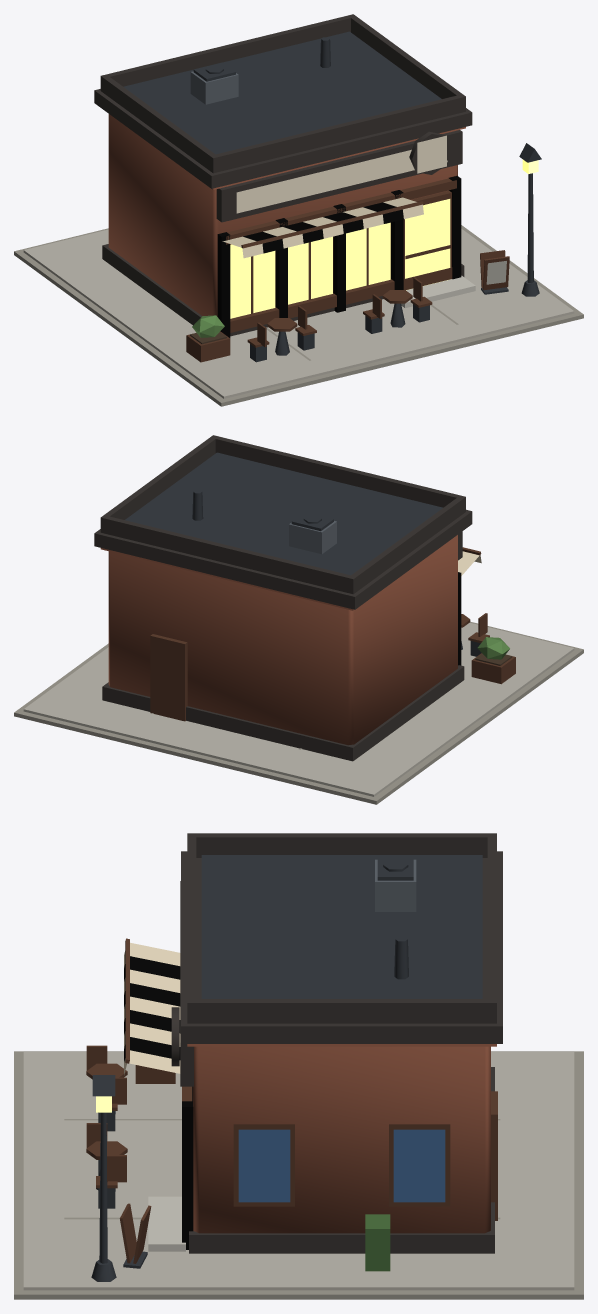
File: cornerleaf-cafe.glb
The picture shows the model from 3 angles, top to bottom: view 1: azimuth 30°, elevation 25°; view 2: azimuth 150°, elevation 25°; view 3: azimuth 270°, elevation 25°; orthographic projection. The views are drawn at different scales.
Parts seen in each view (by area): view 1: Merged_cafe-cornice, Merged_city-paving, Merged_city-metal-dark, Merged_cafe-brick, Merged_city-lit-glass-surface, Merged_cafe-timber, Merged_city-curb, Merged_cafe-brick-shade, Merged_cafe-sign-plate, Merged_cafe-canvas-light, Merged_cafe-canvas-dark, Merged_city-metal (+5 smaller); view 2: Merged_cafe-brick, Merged_cafe-cornice, Merged_city-paving, Merged_city-metal-dark, Merged_city-curb, Merged_cafe-timber, Merged_city-metal, Merged_cafe-brick-light, Merged_city-foliage; view 3: Merged_city-paving, Merged_cafe-brick, Merged_city-metal-dark, Merged_cafe-cornice, Merged_city-curb, Merged_cafe-timber, Merged_city-glass-surface, Merged_cafe-canvas-light, Merged_cafe-canvas-dark, Merged_city-paving-light, Merged_cafe-brick-shade, Merged_city-foliage-deep (+2 smaller).
Part boxes in pixels (x1,y1,x2,y2): Merged_cafe-cornice: (94, 14, 472, 336); Merged_city-paving: (23, 229, 574, 398); Merged_city-metal-dark: (123, 31, 541, 362); Merged_cafe-brick: (108, 114, 457, 316); Merged_city-lit-glass-surface: (230, 199, 450, 318); Merged_cafe-timber: (186, 178, 509, 362); Merged_city-curb: (14, 225, 583, 406); Merged_cafe-brick-shade: (217, 175, 461, 337); Merged_cafe-sign-plate: (236, 149, 447, 213); Merged_cafe-canvas-light: (222, 197, 423, 258); Merged_cafe-canvas-dark: (243, 202, 403, 253); Merged_city-metal: (190, 71, 238, 104); Merged_cafe-brick: (108, 535, 457, 745); Merged_cafe-cornice: (94, 435, 472, 761); Merged_city-paving: (23, 622, 574, 796); Merged_city-metal-dark: (125, 452, 481, 656); Merged_city-curb: (14, 621, 583, 804); Merged_cafe-timber: (150, 547, 515, 721); Merged_city-metal: (289, 521, 336, 554); Merged_cafe-brick-light: (100, 548, 354, 610); Merged_city-foliage: (477, 637, 509, 659); Merged_city-paving: (23, 1052, 574, 1290); Merged_cafe-brick: (193, 1046, 490, 1233); Merged_city-metal-dark: (91, 855, 482, 1281); Merged_cafe-cornice: (171, 833, 502, 1253); Merged_city-curb: (14, 1051, 583, 1299); Merged_cafe-timber: (86, 938, 497, 1263); Merged_city-glass-surface: (238, 1129, 445, 1202); Merged_cafe-canvas-light: (124, 942, 180, 1075); Merged_cafe-canvas-dark: (124, 956, 180, 1061); Merged_city-paving-light: (148, 1196, 185, 1251); Merged_cafe-brick-shade: (182, 1086, 193, 1249); Merged_city-foliage-deep: (365, 1214, 390, 1271).
Size of what is drawn, in the model's own units: 8.63 by 4.66 by 8.55.
